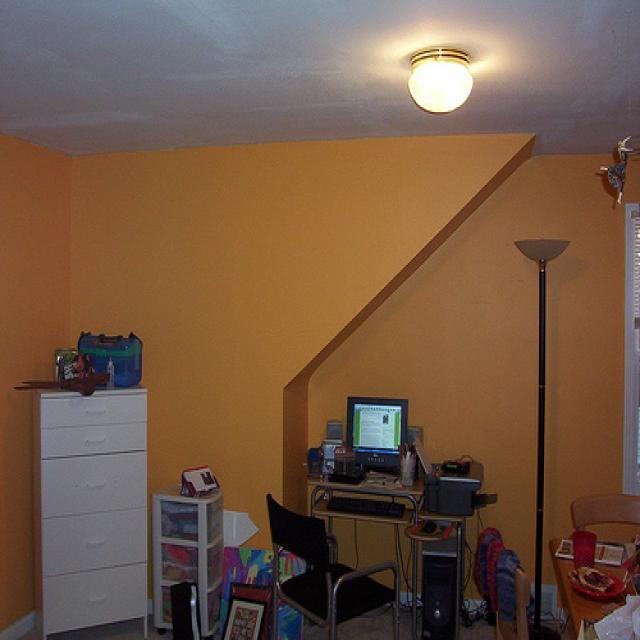chair: (264, 492, 401, 639), (568, 494, 640, 545)
diningtable: (546, 536, 640, 639)
tvmonitor: (347, 397, 409, 471)
